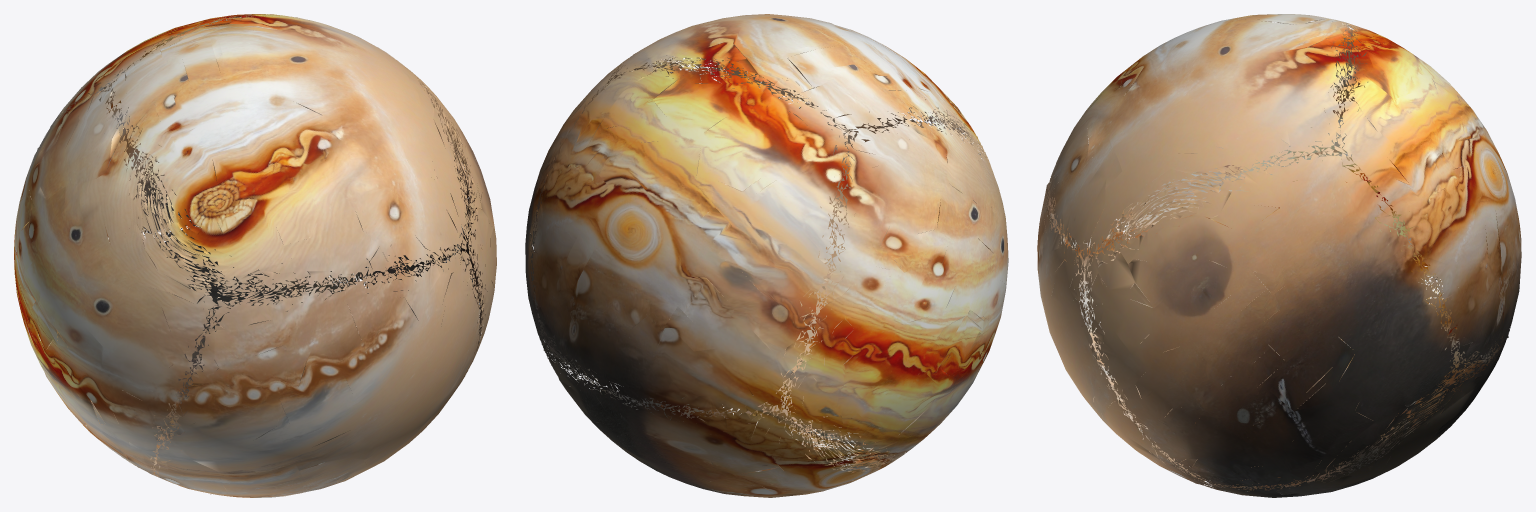
File: Jupiter.glb
3 views of the same model, side by side, from view 1: azimuth 30°, elevation 25°; view 2: azimuth 150°, elevation 25°; view 3: azimuth 270°, elevation 25° (orthographic).
Parts seen in each view (by area): view 1: Mesh_0.006; view 2: Mesh_0.006; view 3: Mesh_0.006.
Part boxes in pixels (x1,y1,x2,y2): Mesh_0.006: (14, 14, 496, 497); Mesh_0.006: (525, 14, 1008, 497); Mesh_0.006: (1037, 14, 1521, 497).
Bounding box in the file's own units: 2 × 2.01 × 2.01.
1 material, 1 textured.
